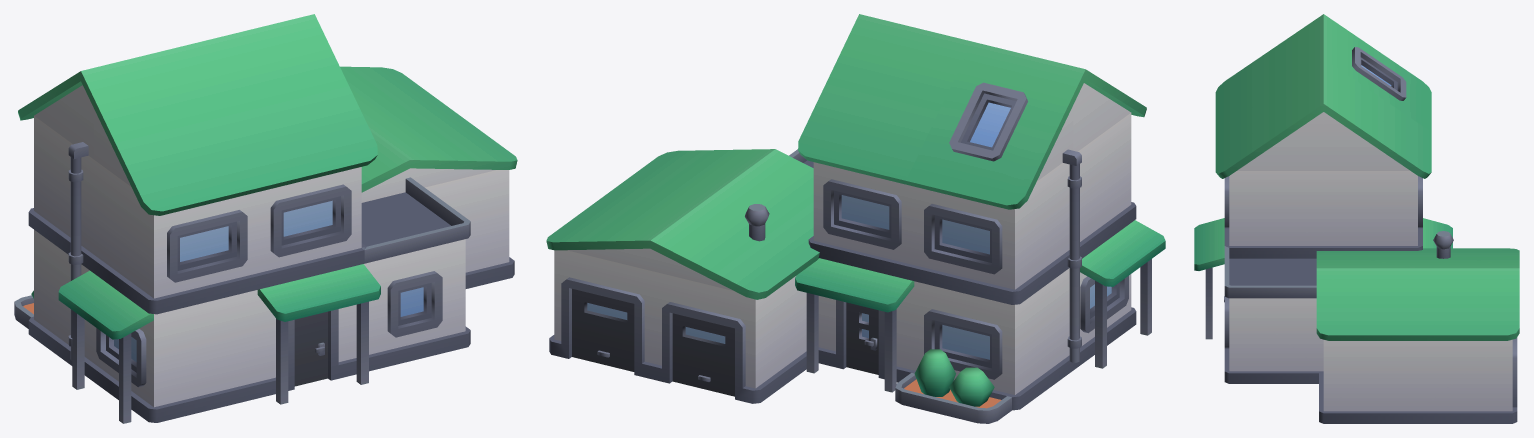
The model's file is building-type-n.glb.
The picture shows the model from 3 angles, left to right: view 1: azimuth 30°, elevation 25°; view 2: azimuth 150°, elevation 25°; view 3: azimuth 270°, elevation 25°; orthographic projection. The views are drawn at different scales.
Visible parts, largest first — view 1: building-type-n; view 2: building-type-n; view 3: building-type-n.
Part boxes in pixels (<box>): building-type-n: <box>14,14,517,423</box>; building-type-n: <box>546,14,1165,423</box>; building-type-n: <box>1194,14,1519,423</box>.
Bounding box in the file's own units: 1.78 × 1.14 × 1.38.
1 material, 1 textured.
